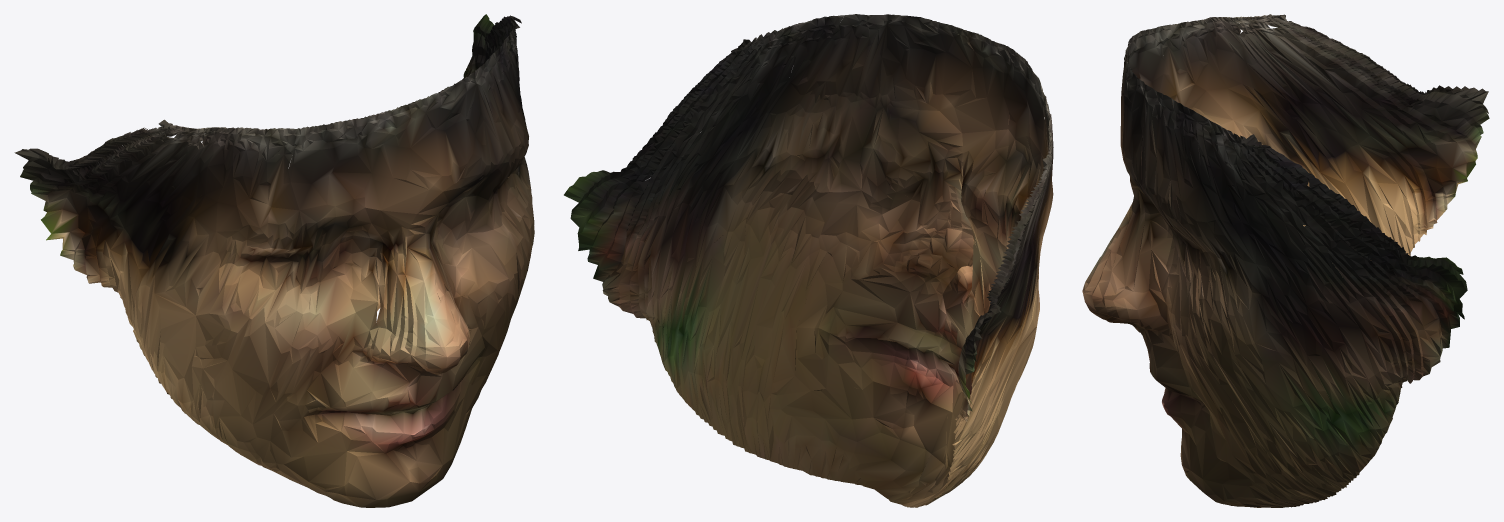
Rendered from wkjefl.obj.
3 renders of one model, left to right at view 1: azimuth 30°, elevation 25°; view 2: azimuth 150°, elevation 25°; view 3: azimuth 270°, elevation 25°, orthographic. The views are drawn at different scales.
Size of the model in its own units: 481 by 455 by 388.
